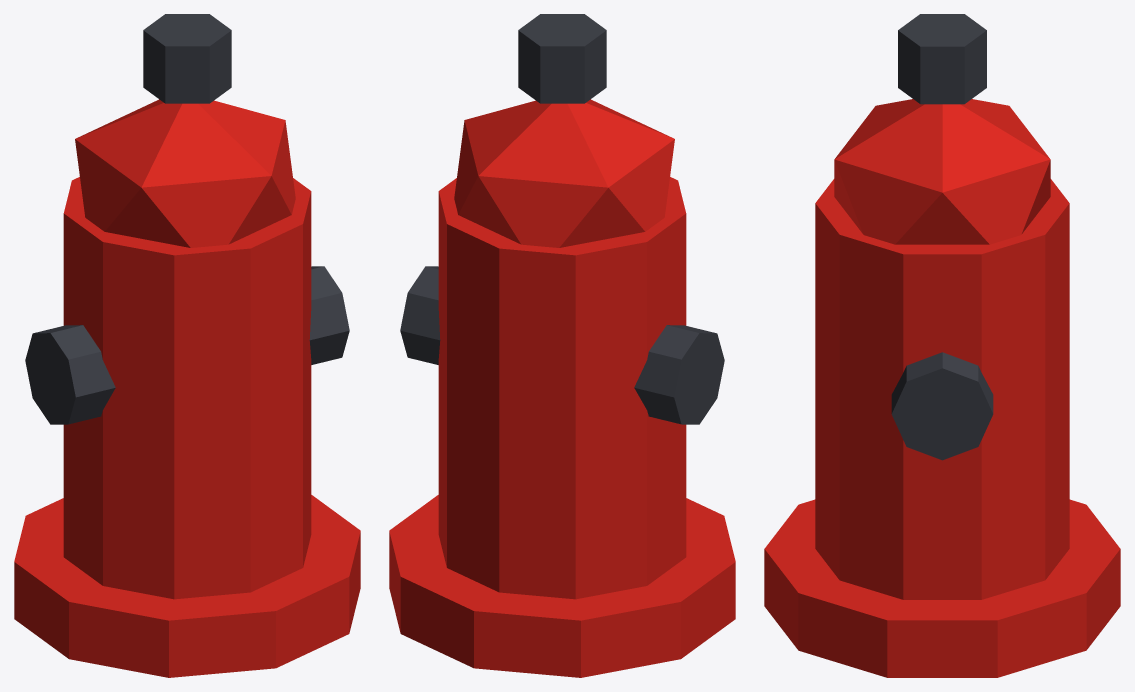
The model's file is fire_hydrant.glb.
The picture shows the model from 3 angles, left to right: view 1: azimuth 30°, elevation 25°; view 2: azimuth 150°, elevation 25°; view 3: azimuth 270°, elevation 25°; orthographic projection.
Visible parts, largest first — view 1: fire_hydrant; view 2: fire_hydrant; view 3: fire_hydrant.
Boxes of the visible parts, x1,y1,x2,y2 form: fire_hydrant: (14,14,360,677); fire_hydrant: (389,14,735,677); fire_hydrant: (764,14,1120,677).
Size of the model in its own units: 0.5326 by 1 by 0.56.
